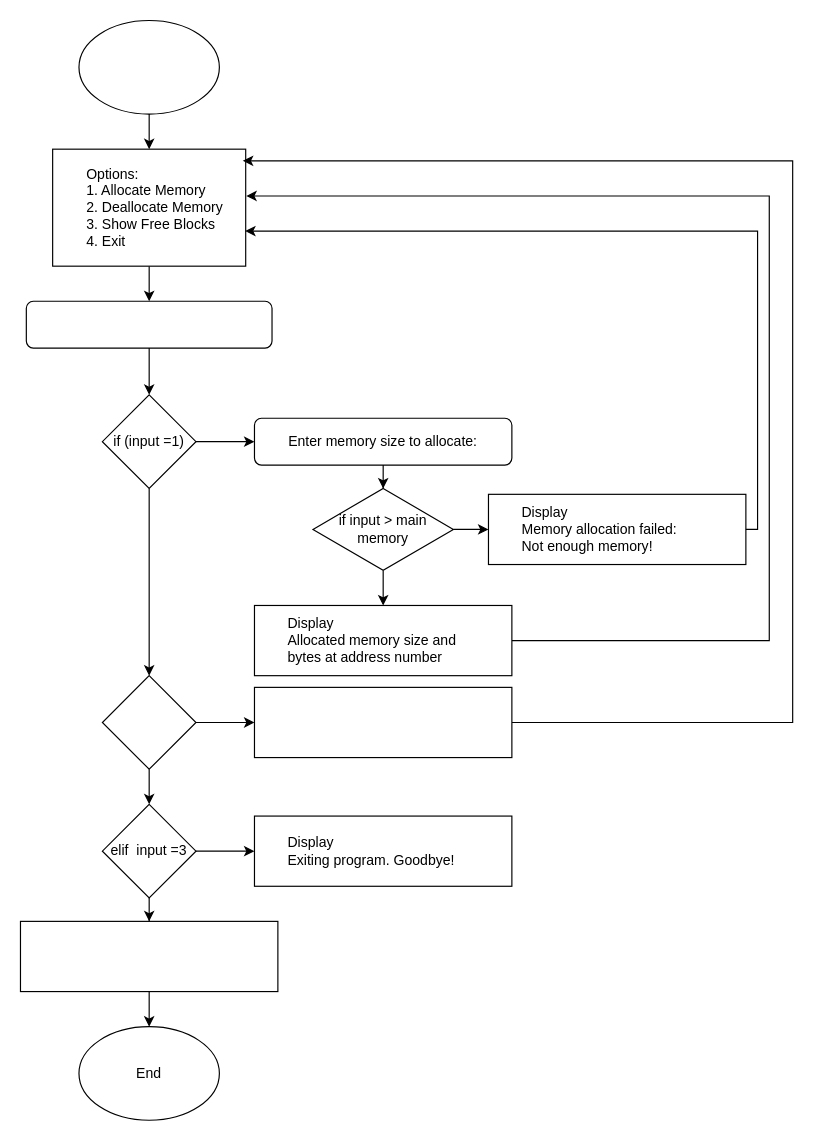
This 823x1141 diagram has some shape labels left out. The shapes that lost their labels are listed below. From the top down, each one's centre as x and y in pixels, then its label:
(x=148, y=66): Start
(x=148, y=324): Enter your choice:
(x=148, y=722): elif input =2
(x=382, y=722): Display Free Blocks: { }
(x=148, y=956): Display Invalid choice! Please try again.
